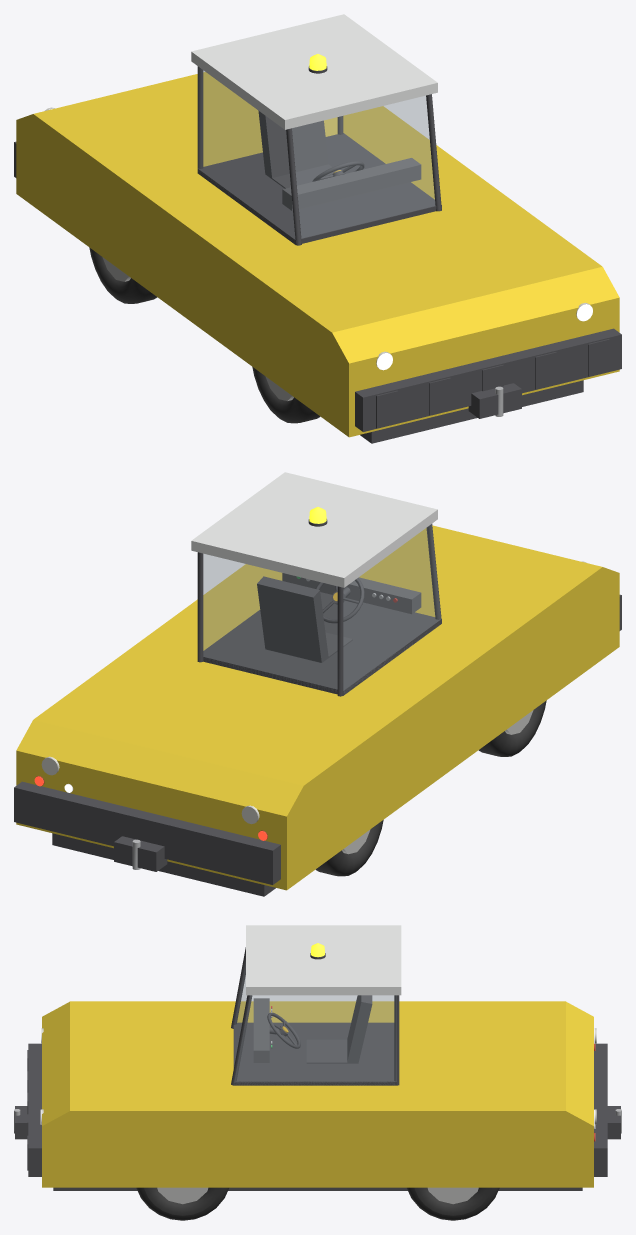
The model's file is PushbackTug.glb.
3 views of the same model, one above another, from view 1: azimuth 30°, elevation 25°; view 2: azimuth 150°, elevation 25°; view 3: azimuth 270°, elevation 25° (orthographic). The views are drawn at different scales.
Parts seen in each view (by area): view 1: Body, Wheel_FR, Wheel_RR; view 2: Body, Wheel_RR, Wheel_FR; view 3: Body, Wheel_FL, Wheel_RL, SteeringWheel.
Boxes of the visible parts, left/top/right/bottom form: Body: left=14, top=14, right=621, bottom=443; Wheel_FR: left=252, top=367, right=320, bottom=423; Wheel_RR: left=89, top=247, right=157, bottom=303; Body: left=14, top=472, right=621, bottom=896; Wheel_RR: left=315, top=820, right=383, bottom=876; Wheel_FR: left=478, top=700, right=546, bottom=756; Body: left=14, top=925, right=621, bottom=1190; Wheel_FL: left=136, top=1187, right=228, bottom=1220; Wheel_RL: left=407, top=1187, right=499, bottom=1220; SteeringWheel: left=267, top=1012, right=300, bottom=1048.
Size of what is drawn, in the model's own units: 2.3 by 2.26 by 5.4.
